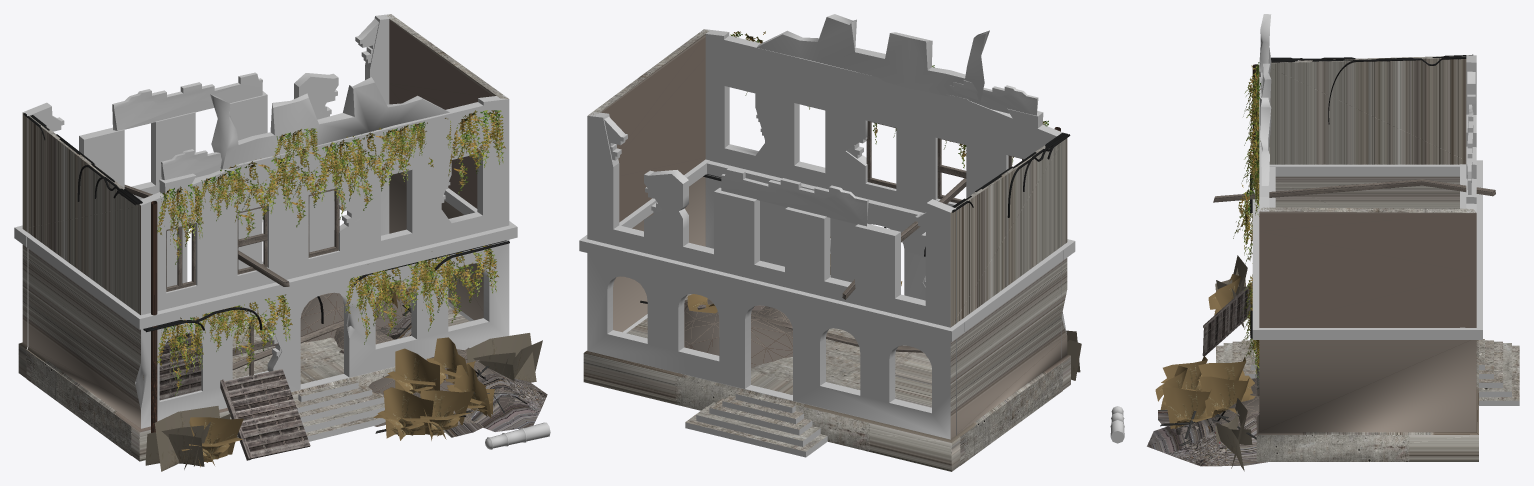
Rendered from house yellow2_LOD0.fbx.
The picture shows the model from 3 angles, left to right: view 1: azimuth 30°, elevation 25°; view 2: azimuth 150°, elevation 25°; view 3: azimuth 270°, elevation 25°; orthographic projection. The views are drawn at different scales.
Parts seen in each view (by area): view 1: house_yellow2_LOD0; view 2: house_yellow2_LOD0; view 3: house_yellow2_LOD0.
Boxes of the visible parts, x1,y1,x2,y2 form: house_yellow2_LOD0: [14, 14, 550, 471]; house_yellow2_LOD0: [579, 14, 1081, 471]; house_yellow2_LOD0: [1110, 14, 1519, 471].
Size of the model in its own units: 9.68 by 8.23 by 9.41.
